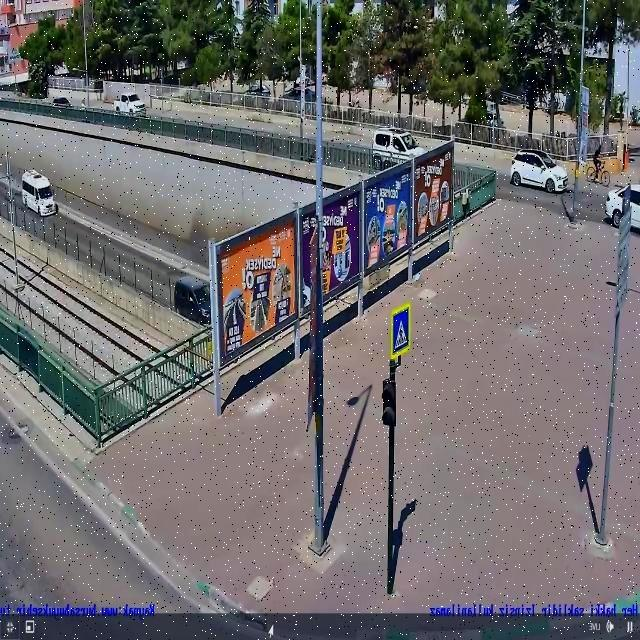Car: (165, 252, 216, 330), (347, 125, 431, 168), (12, 159, 58, 223), (501, 150, 568, 191), (604, 181, 640, 225), (111, 86, 148, 119)
Cycle: (582, 137, 615, 188)
